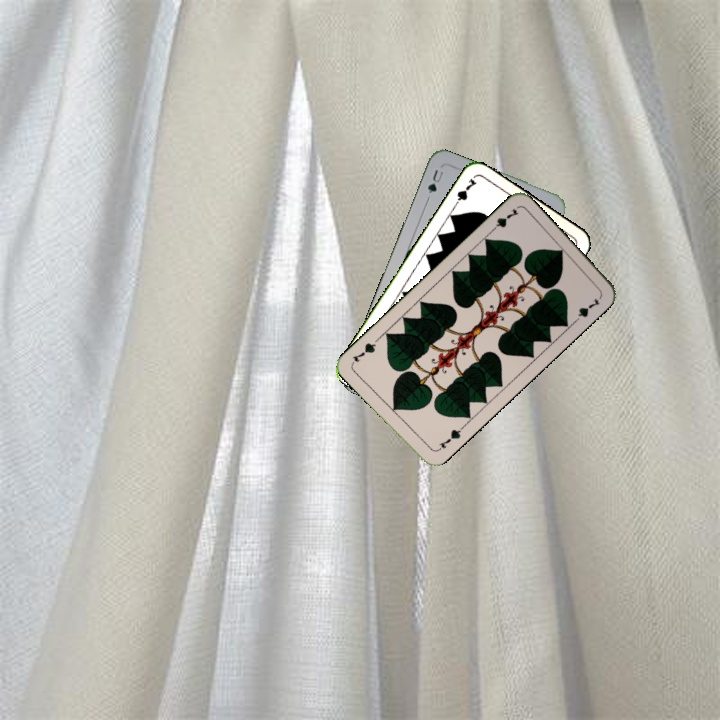G7: (486, 204, 521, 236), (449, 175, 480, 211), (433, 423, 466, 454)
GU: (423, 165, 446, 197)
